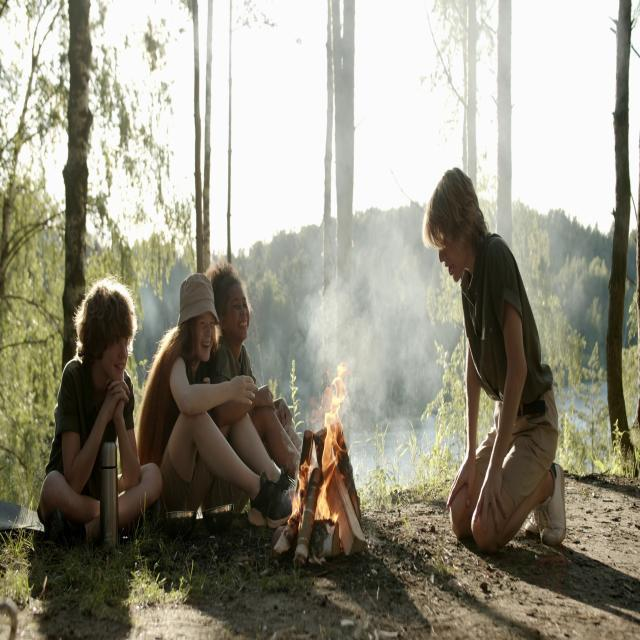Fire: (283, 352, 355, 526)
Smoke: (112, 0, 636, 235), (300, 186, 440, 390)
